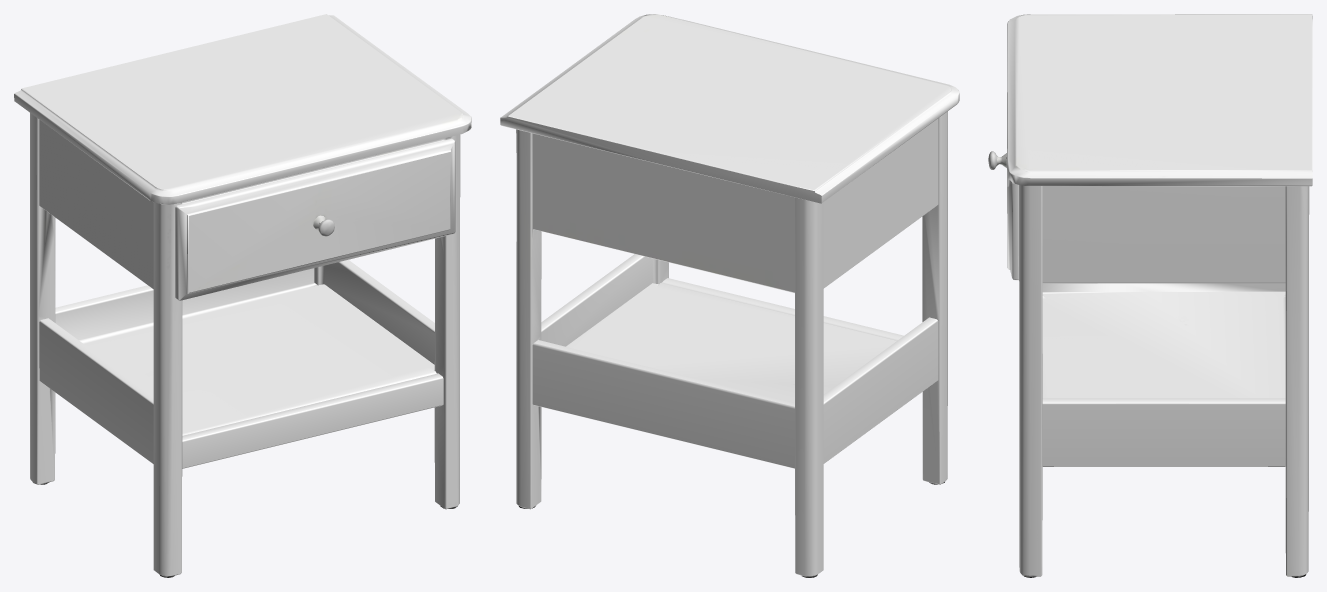
The picture shows the model from 3 angles, left to right: view 1: azimuth 30°, elevation 25°; view 2: azimuth 150°, elevation 25°; view 3: azimuth 270°, elevation 25°; orthographic projection. The views are drawn at different scales.
Parts seen in each view (by area): view 1: ProcessedMeshNode; view 2: ProcessedMeshNode; view 3: ProcessedMeshNode.
Part boxes in pixels (left/top/right/bottom): ProcessedMeshNode: left=14, top=14, right=471, bottom=577; ProcessedMeshNode: left=500, top=14, right=959, bottom=577; ProcessedMeshNode: left=988, top=14, right=1312, bottom=577.
Size of the model in its own units: 0.5083 by 0.5931 by 0.4252.
Materials: 1 (1 with a texture image).
